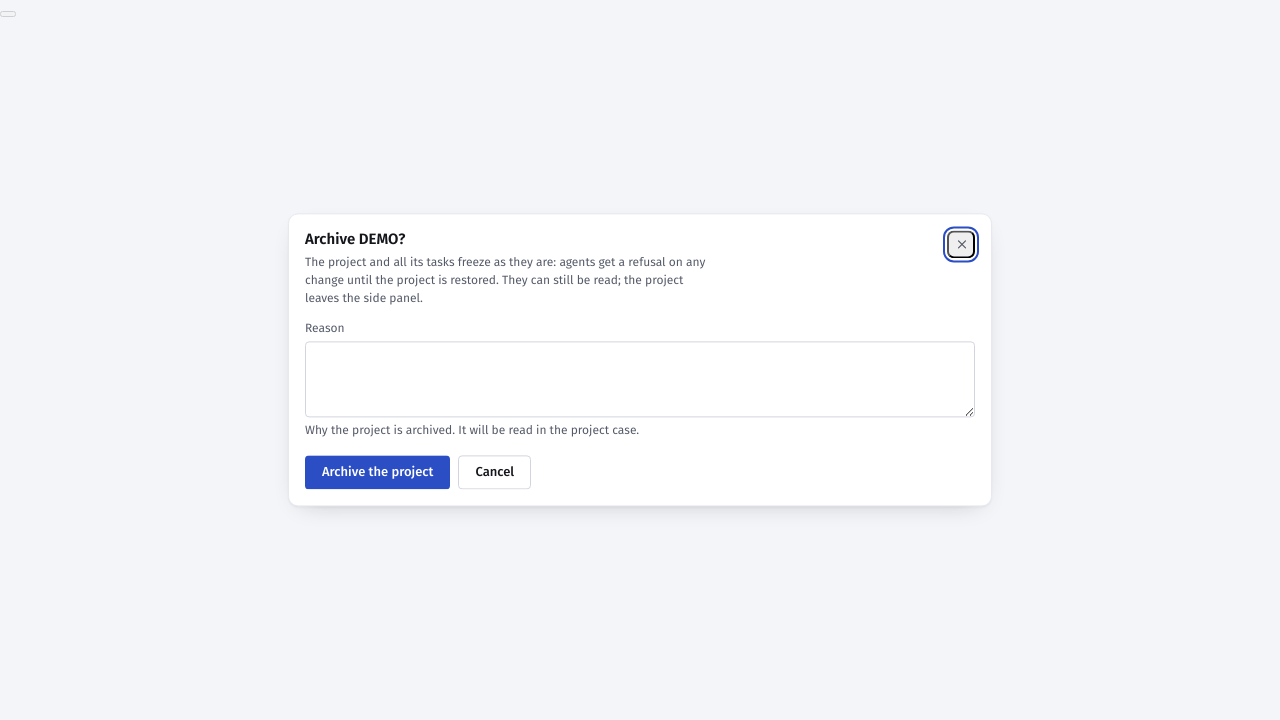
Test case: окна архива и восстановления проекта (UI-176) › отказ бэкенда читается словами словаря, окно остаётся открытым
Type "Done" into the text box labelled "Reason".
click(640, 379); type("Done")  # box [305, 341, 975, 418]
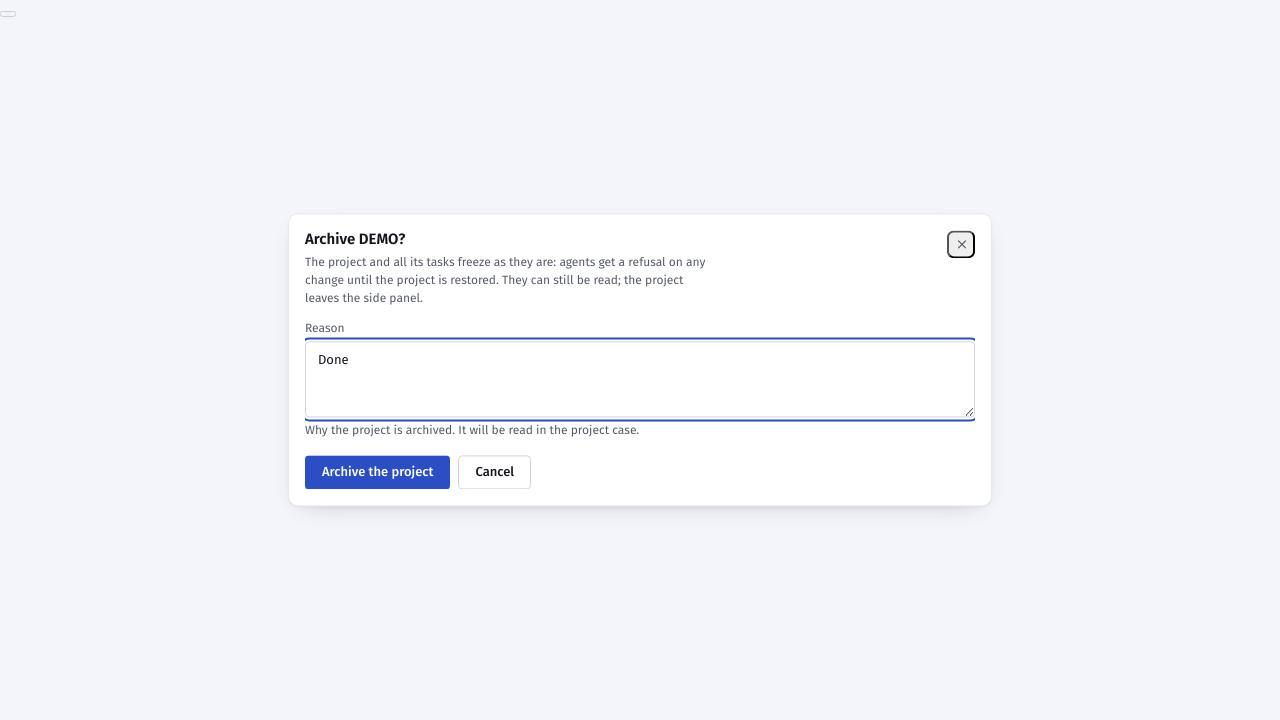
Click the button "Archive the project".
click(378, 473)  # box [305, 456, 450, 490]
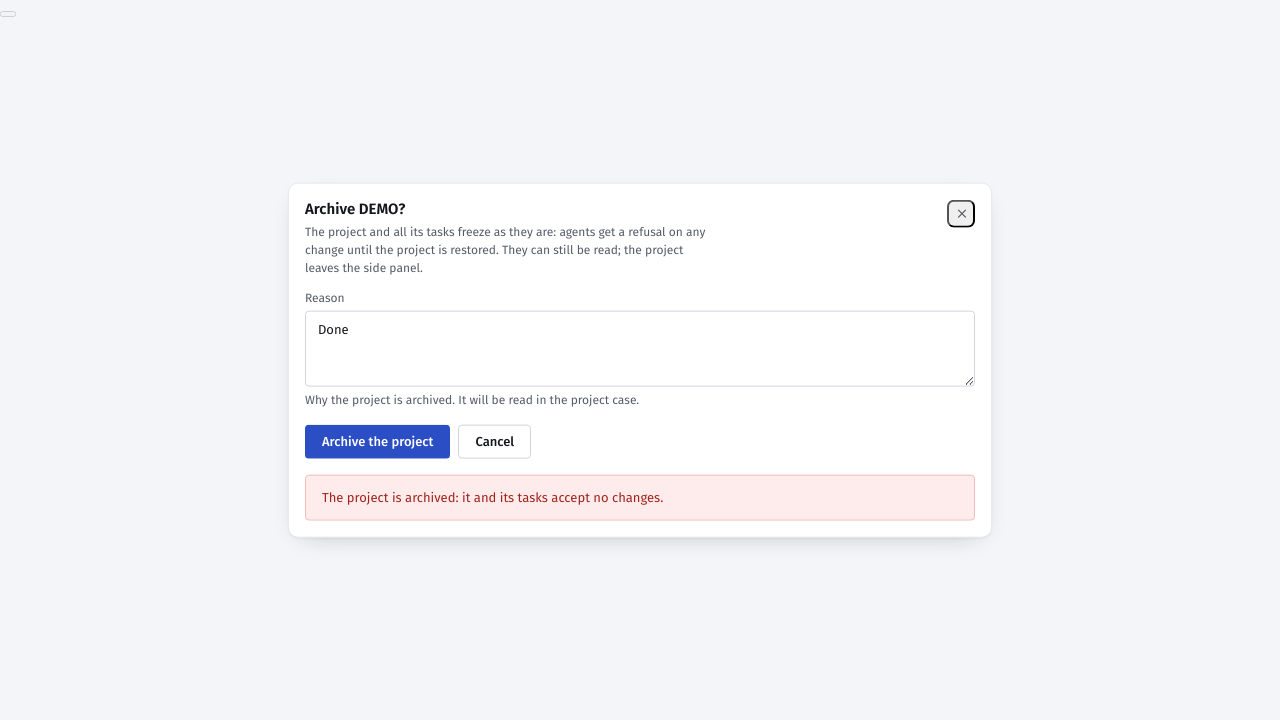
Now the text "The project is archived: it and its tasks accept no changes." is shown, box [305, 475, 975, 520]
